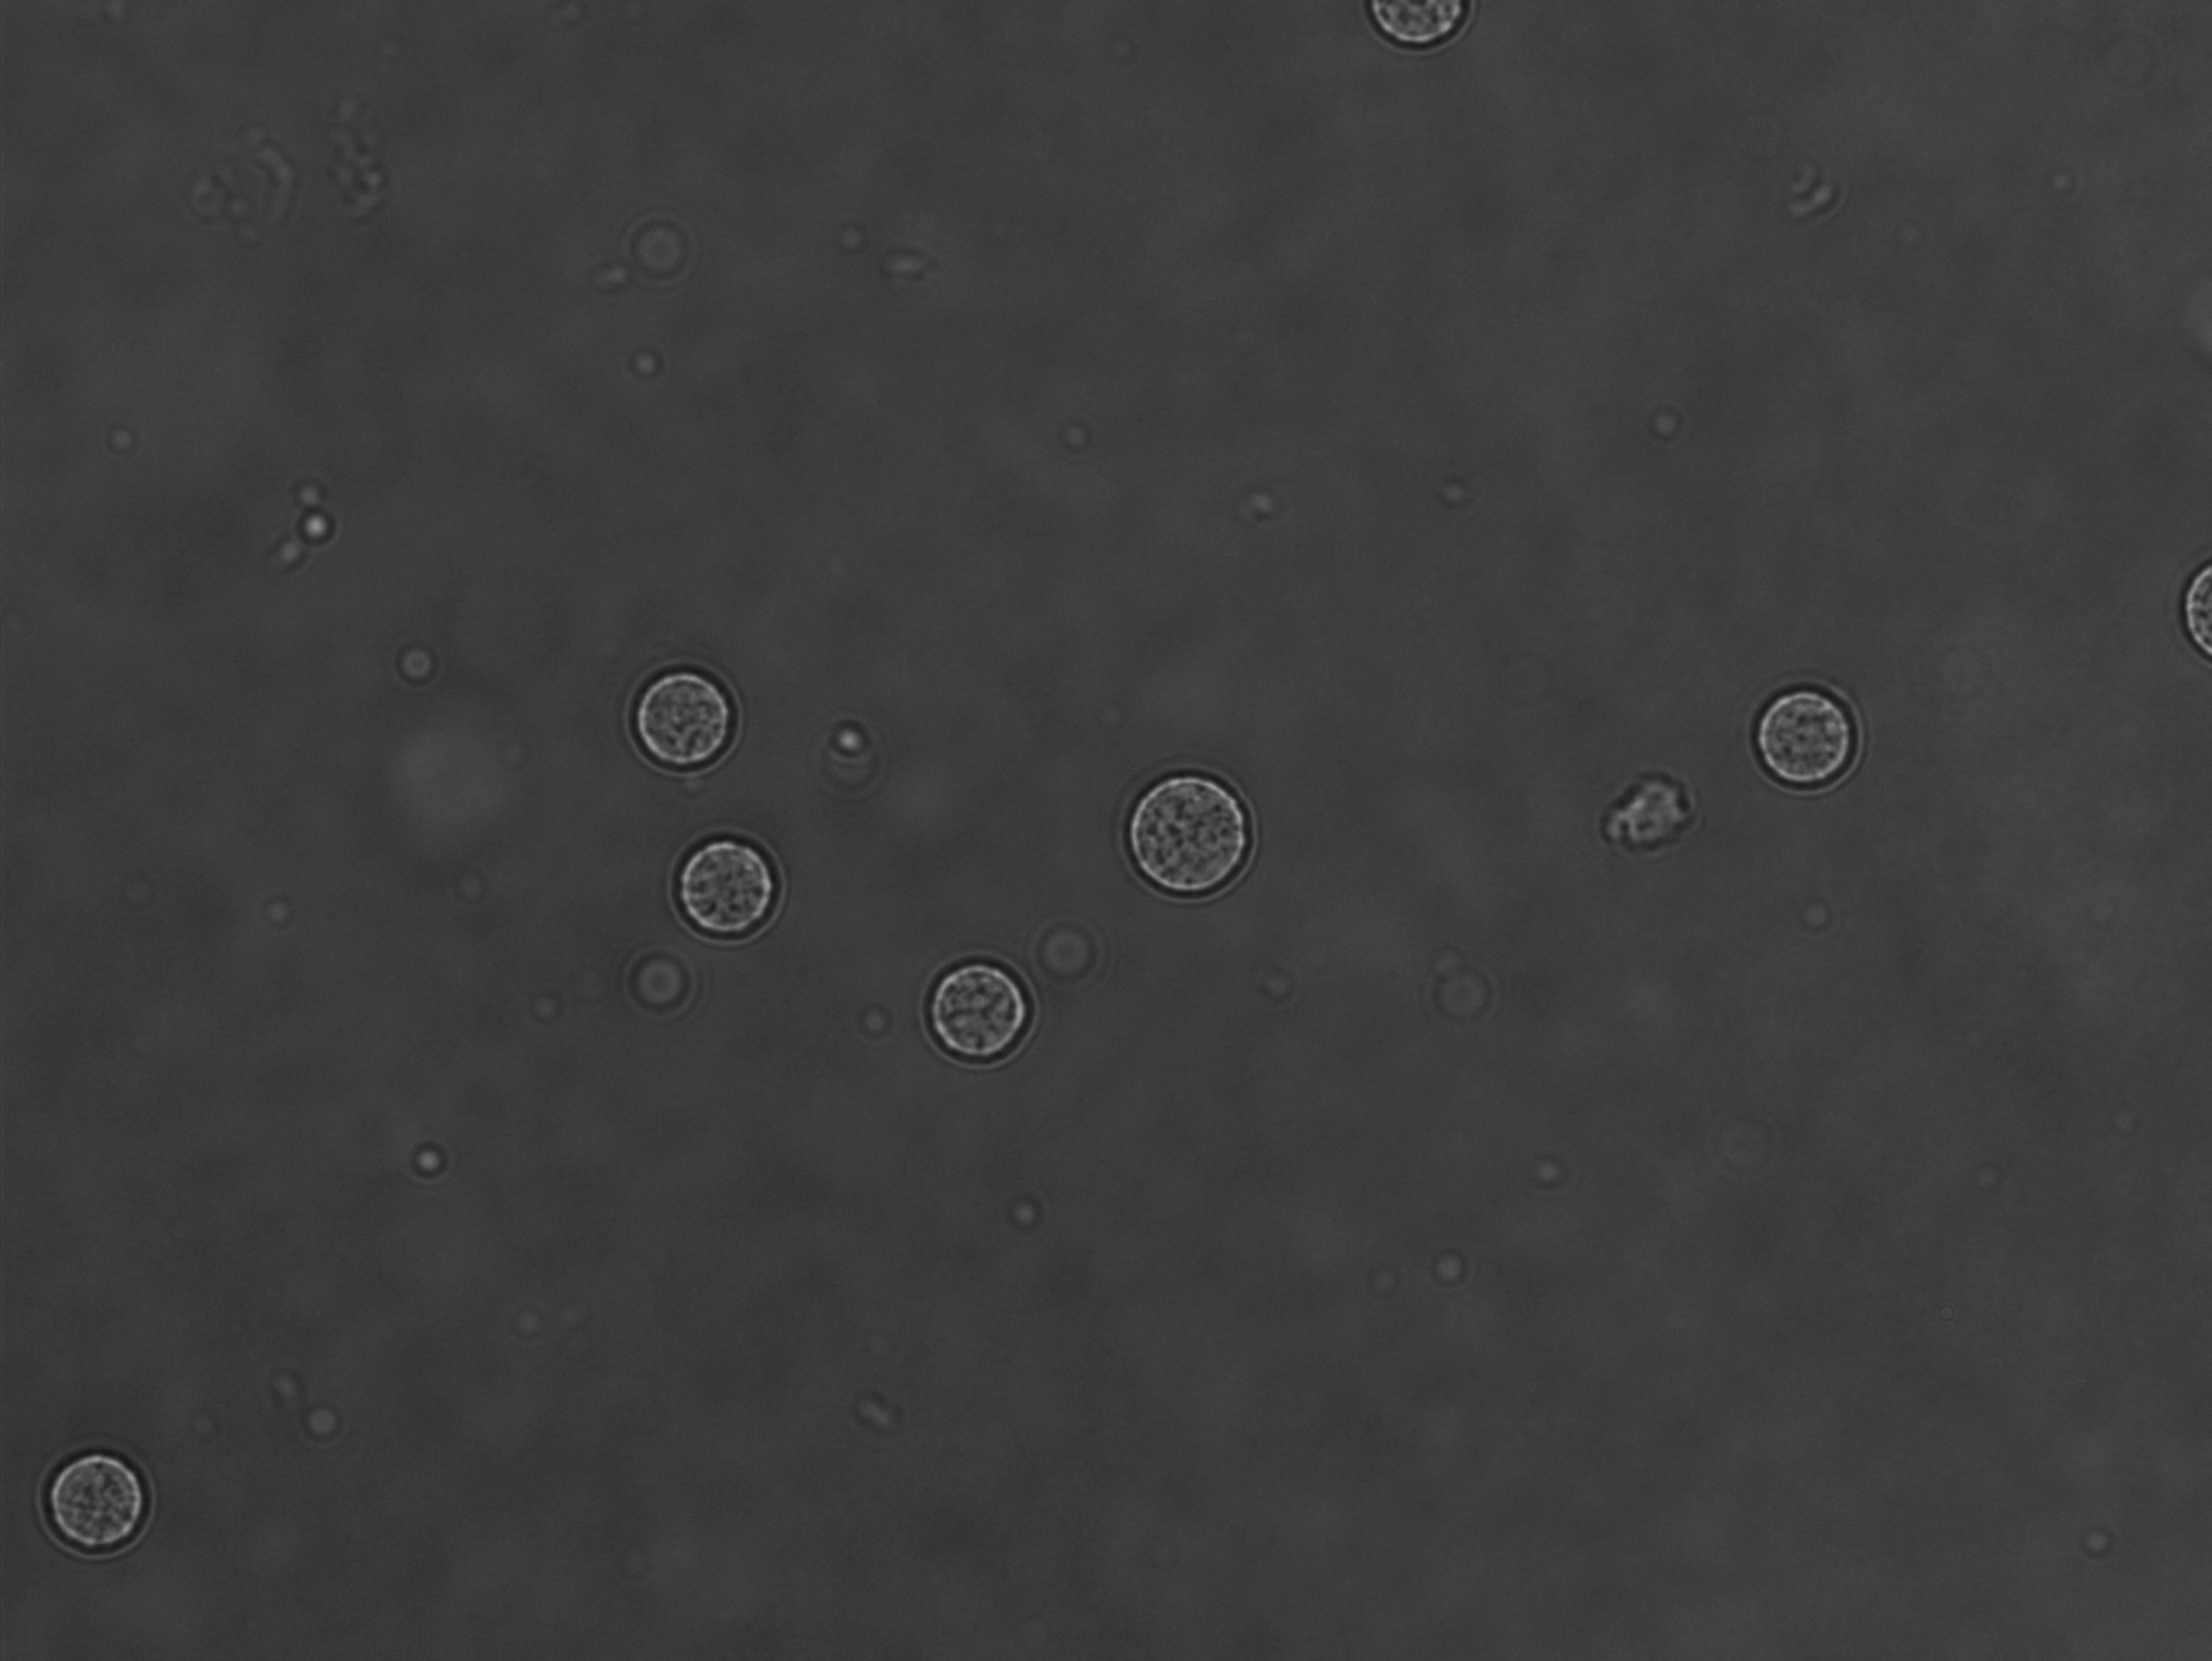depth:0: (24, 1425, 201, 1589), (1108, 759, 1280, 899), (1727, 663, 1884, 813), (649, 817, 802, 951), (918, 935, 1054, 1083), (614, 651, 747, 785)
